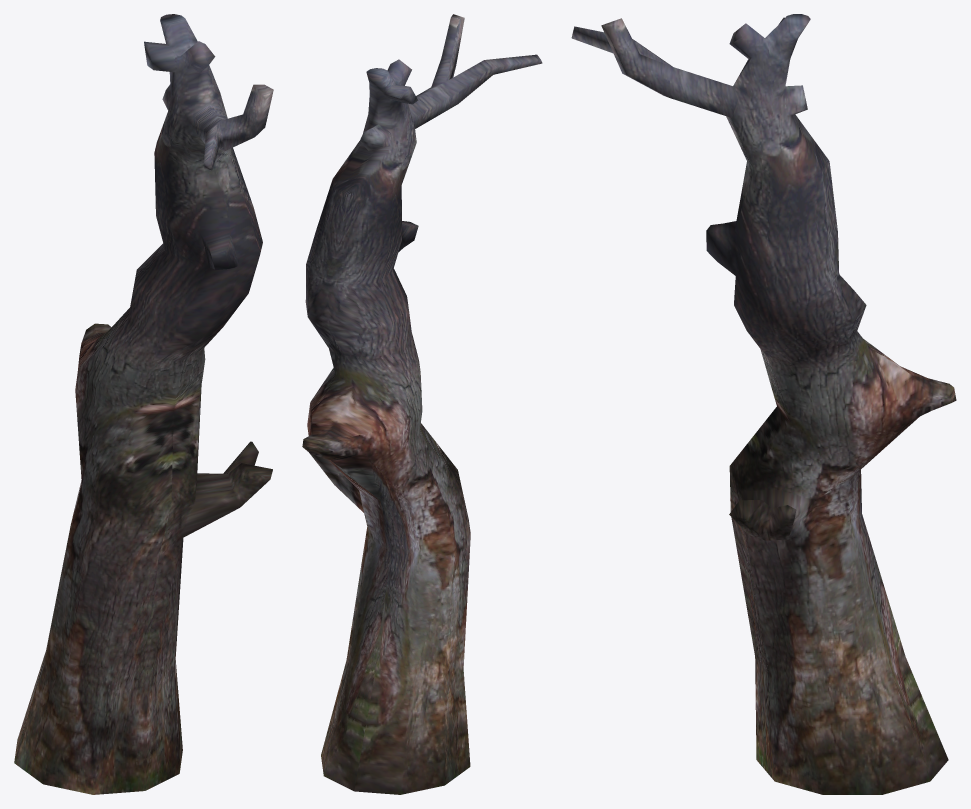
The model's file is tree2.obj.
3 renders of one model, left to right at view 1: azimuth 30°, elevation 25°; view 2: azimuth 150°, elevation 25°; view 3: azimuth 270°, elevation 25°, orthographic. The views are drawn at different scales.
Size of the model in its own units: 162 by 583 by 266.
1 material, 1 textured.
